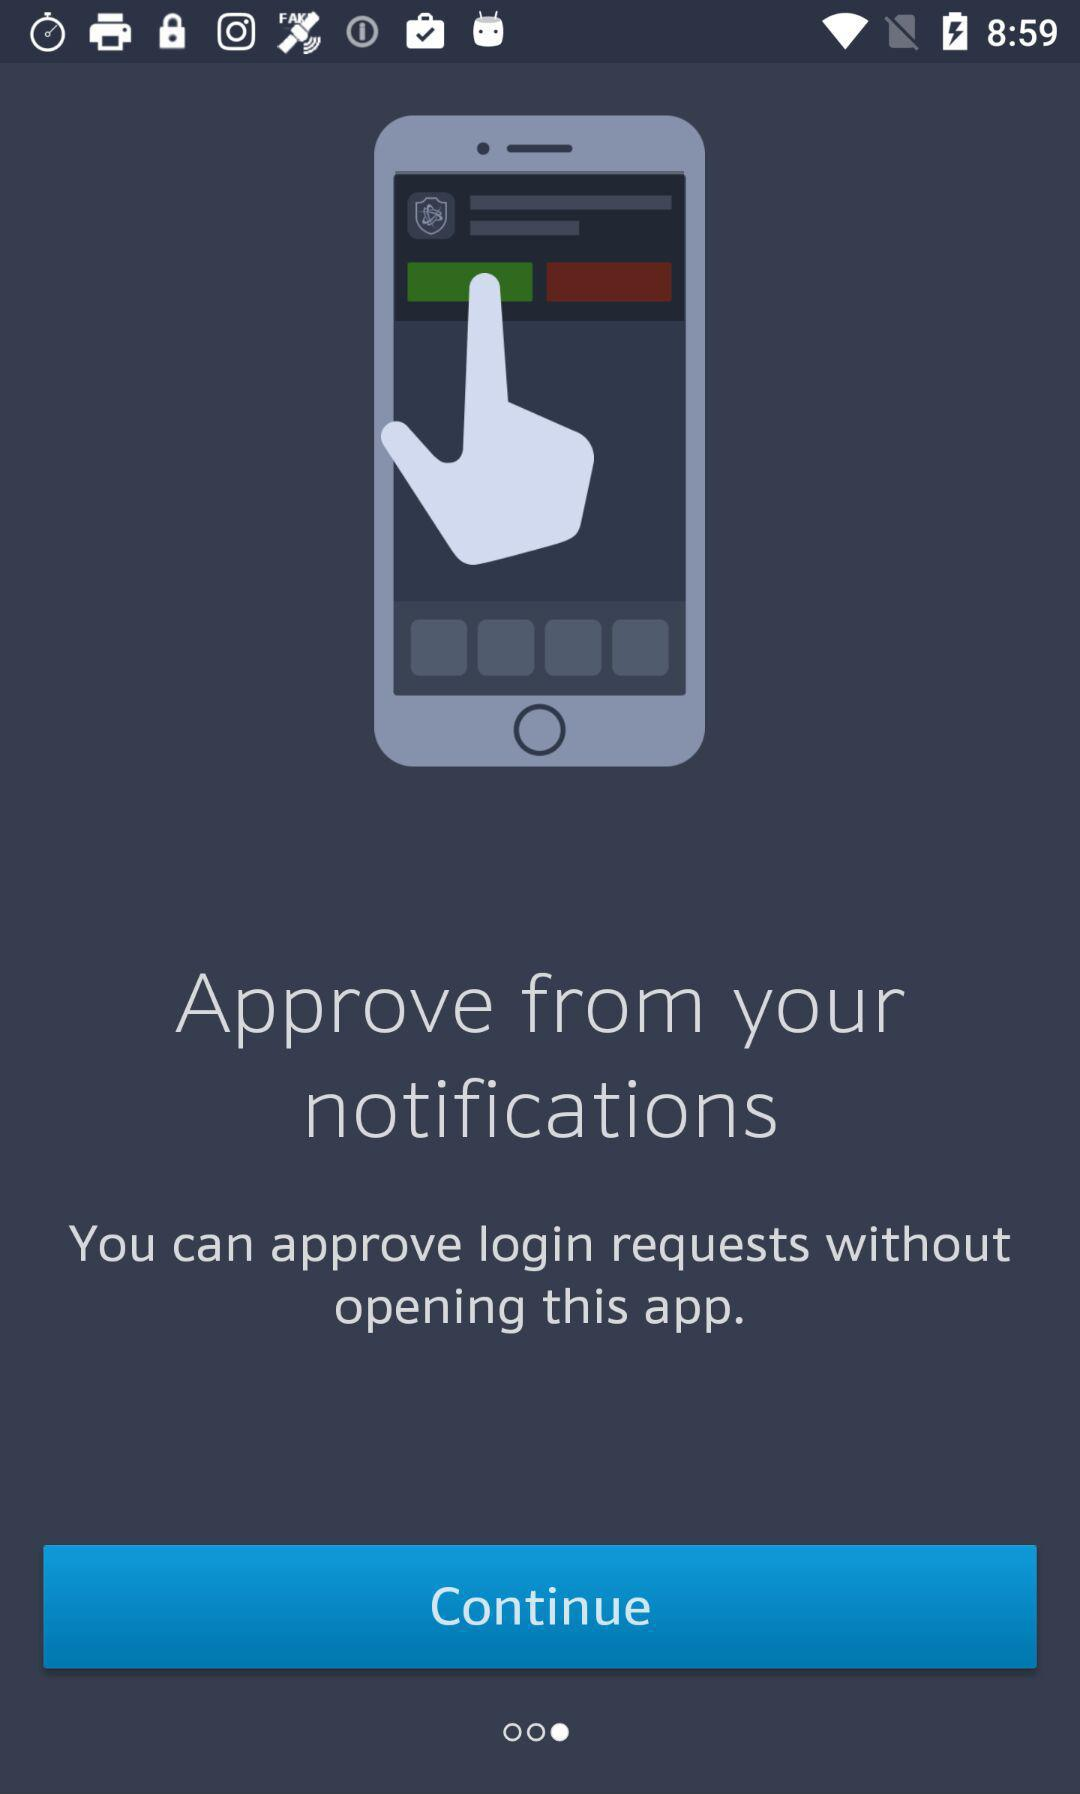Image: (374, 115, 706, 768)
PageIndicator: (502, 1721, 571, 1744)
Text: (176, 973, 906, 1140), (69, 1224, 1012, 1335)
TextButton: (44, 1545, 1038, 1670)
UpperTaskBar: (1, 1, 1080, 64)
